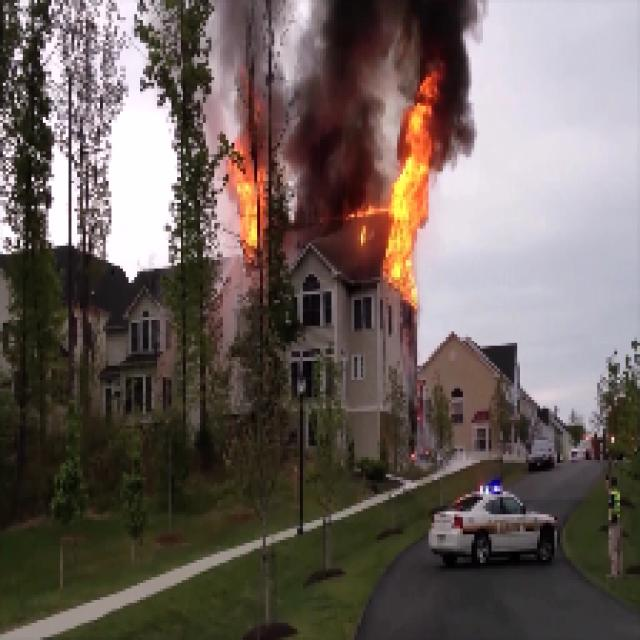fire: (390, 106, 434, 306), (224, 141, 267, 263)
smoke: (196, 0, 484, 98), (270, 102, 380, 264)
